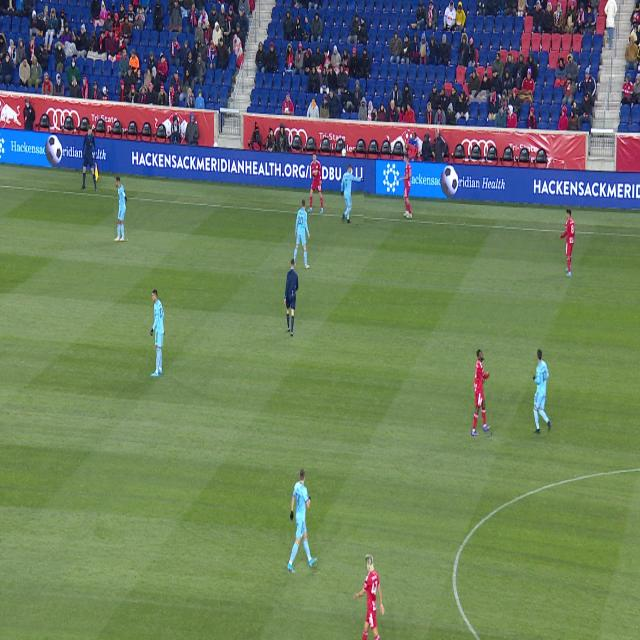player: (287, 468, 317, 573), (353, 554, 385, 640), (472, 349, 491, 436), (533, 349, 551, 434), (341, 164, 364, 224), (151, 289, 164, 377), (294, 199, 310, 269), (560, 208, 575, 277), (115, 177, 127, 241), (127, 200, 127, 202)
referee: (284, 258, 298, 336)
